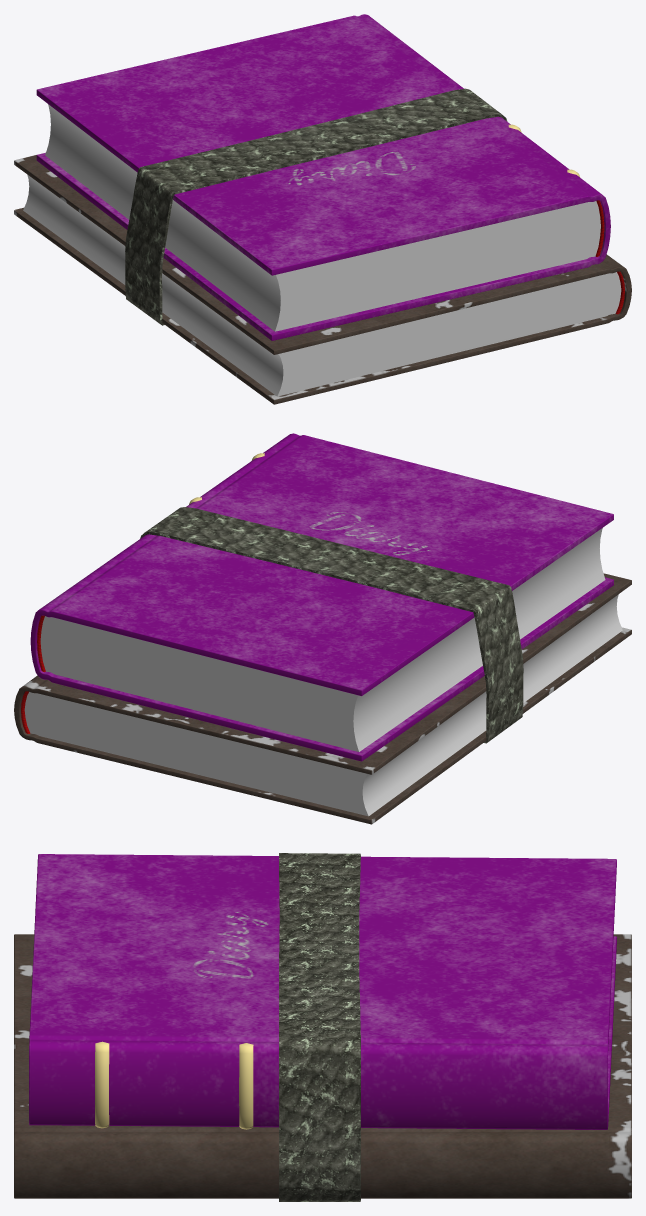
The picture shows the model from 3 angles, top to bottom: view 1: azimuth 30°, elevation 25°; view 2: azimuth 150°, elevation 25°; view 3: azimuth 270°, elevation 25°; orthographic projection. The views are drawn at different scales.
Visible parts, largest first — view 1: books_geo, strap_geo; view 2: books_geo, strap_geo; view 3: books_geo, strap_geo.
Boxes of the visible parts, x1,y1,x2,y2 form: books_geo: (14, 14, 631, 404); strap_geo: (125, 88, 507, 325); books_geo: (14, 433, 631, 824); strap_geo: (140, 507, 523, 743); books_geo: (14, 854, 631, 1198); strap_geo: (279, 853, 360, 1201).
Size of the model in its own units: 0.2163 by 0.0744 by 0.2683.
3 materials, 3 textured.
